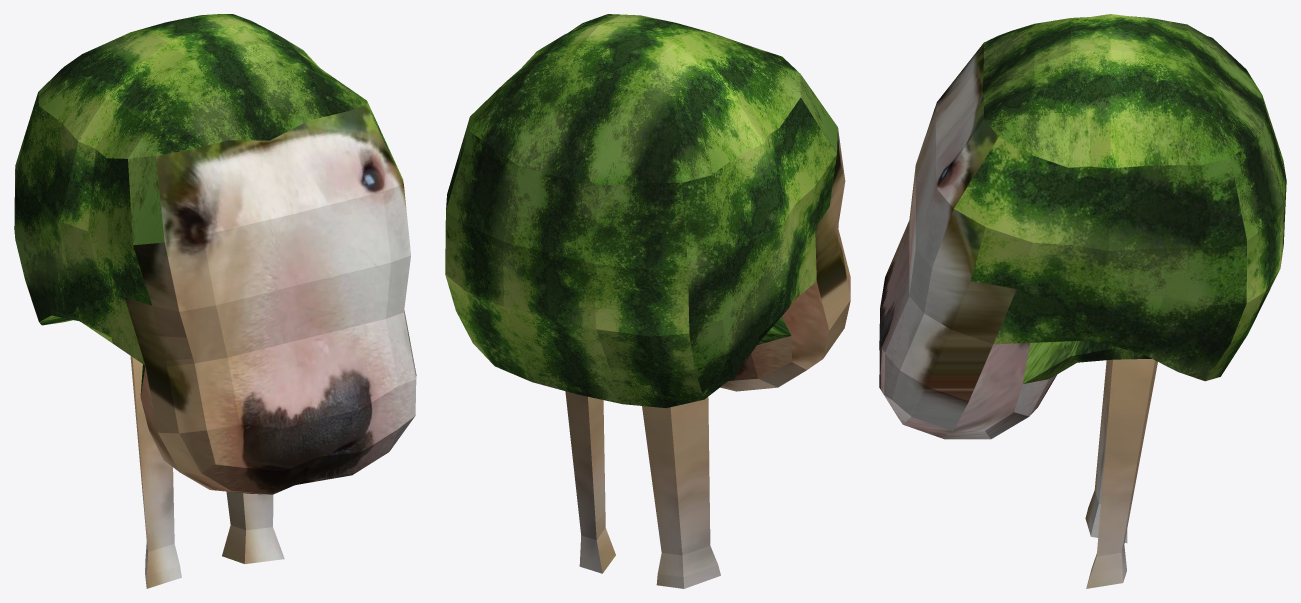
Rendered from watermelonDOGG.glb.
The picture shows the model from 3 angles, left to right: view 1: azimuth 30°, elevation 25°; view 2: azimuth 150°, elevation 25°; view 3: azimuth 270°, elevation 25°; orthographic projection. The views are drawn at different scales.
Parts seen in each view (by area): view 1: dog watermelon; view 2: dog watermelon; view 3: dog watermelon.
Boxes of the visible parts, x1=… form: dog watermelon: x1=14, y1=14, x2=416, y2=588; dog watermelon: x1=445, y1=14, x2=850, y2=588; dog watermelon: x1=879, y1=14, x2=1286, y2=588.
Size of the model in its own units: 0.6051 by 1.07 by 0.7448.
Materials: 2 (2 with a texture image).
